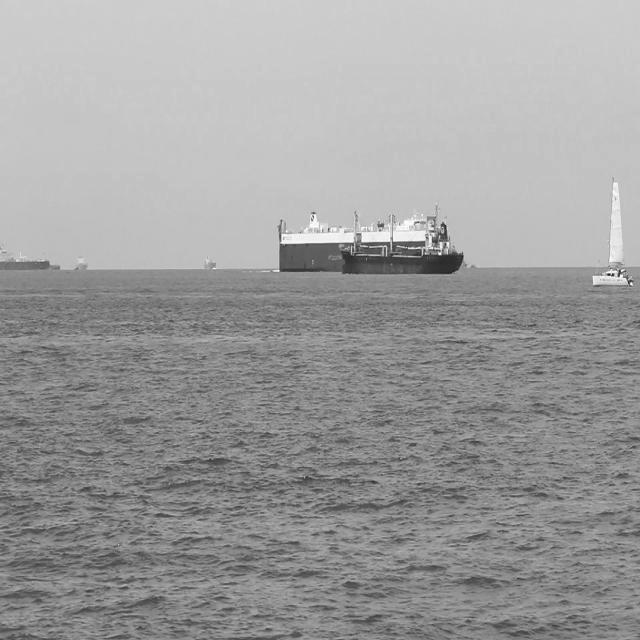ship: (275, 206, 450, 276), (336, 197, 468, 278), (592, 168, 636, 288), (0, 246, 53, 274), (71, 250, 90, 274), (204, 252, 218, 273)
